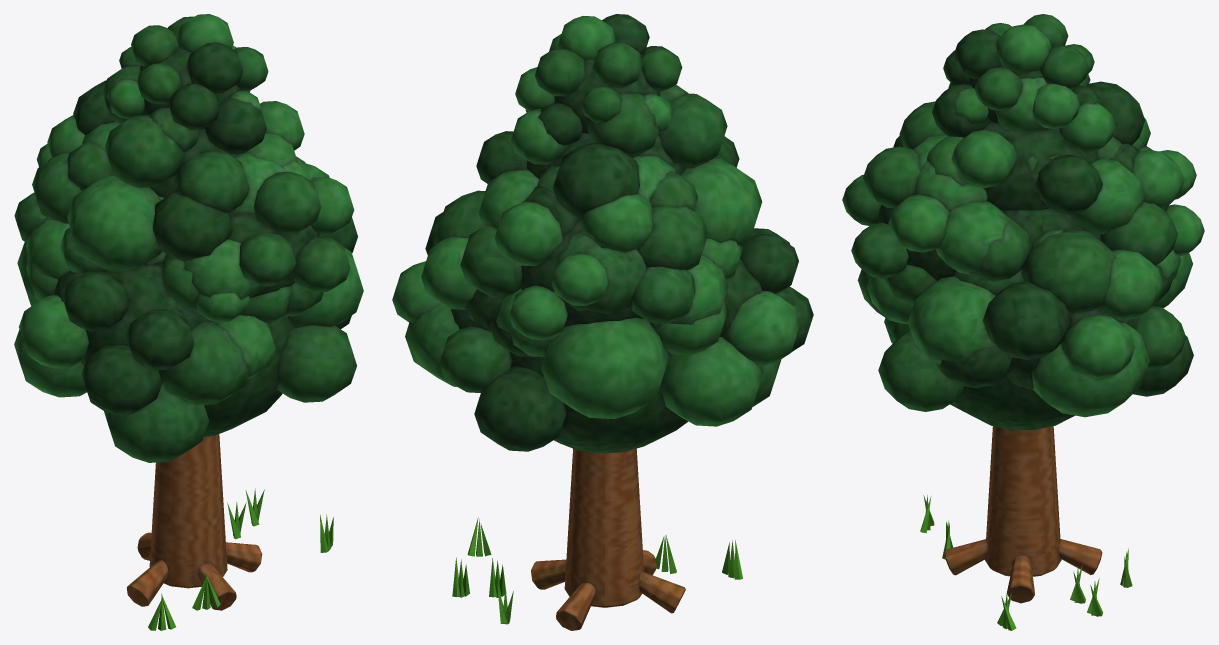
File: nutmeg_tree.glb
3 renders of one model, left to right at view 1: azimuth 30°, elevation 25°; view 2: azimuth 150°, elevation 25°; view 3: azimuth 270°, elevation 25°, orthographic. The views are drawn at different scales.
Parts seen in each view (by area): view 1: crown, nutmeg_tree; view 2: crown, nutmeg_tree; view 3: crown, nutmeg_tree.
Boxes of the visible parts, <box> form: crown: <box>14,14,363,462</box>; nutmeg_tree: <box>127,434,333,630</box>; crown: <box>392,14,813,453</box>; nutmeg_tree: <box>452,448,742,630</box>; crown: <box>842,14,1204,429</box>; nutmeg_tree: <box>920,426,1132,630</box>.
Size of the model in its own units: 0.9076 by 1.43 by 0.8441.
Materials: 1 (1 with a texture image).
